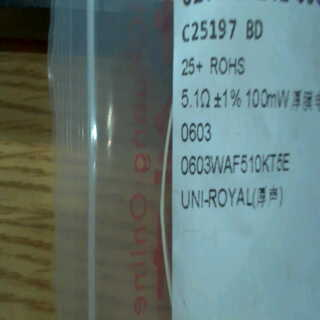5.1R: (176, 84, 214, 115)
